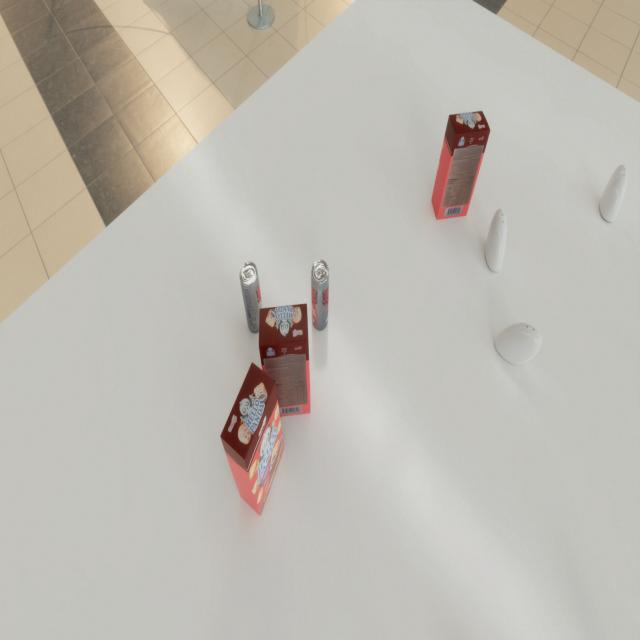HelloPanda: (220, 362, 284, 516), (432, 111, 491, 220), (258, 303, 310, 418)
Rita_zero_sugar: (239, 262, 264, 334), (311, 260, 329, 331)
Salt: (494, 322, 542, 365), (600, 165, 627, 222), (485, 208, 507, 272)
